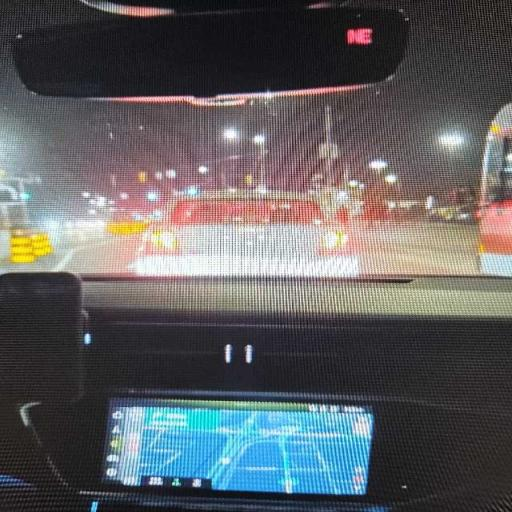car: (0, 0, 511, 511), (133, 193, 359, 277)
lane: (352, 223, 479, 275)
